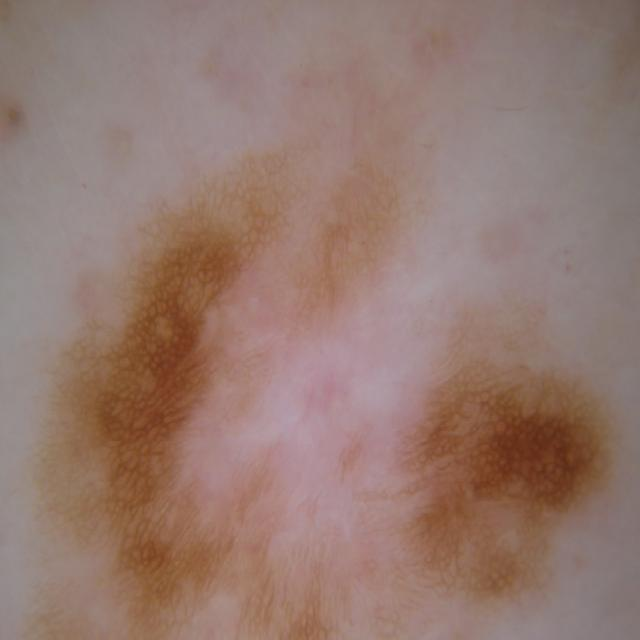Melanoma: (0, 139, 637, 640)
